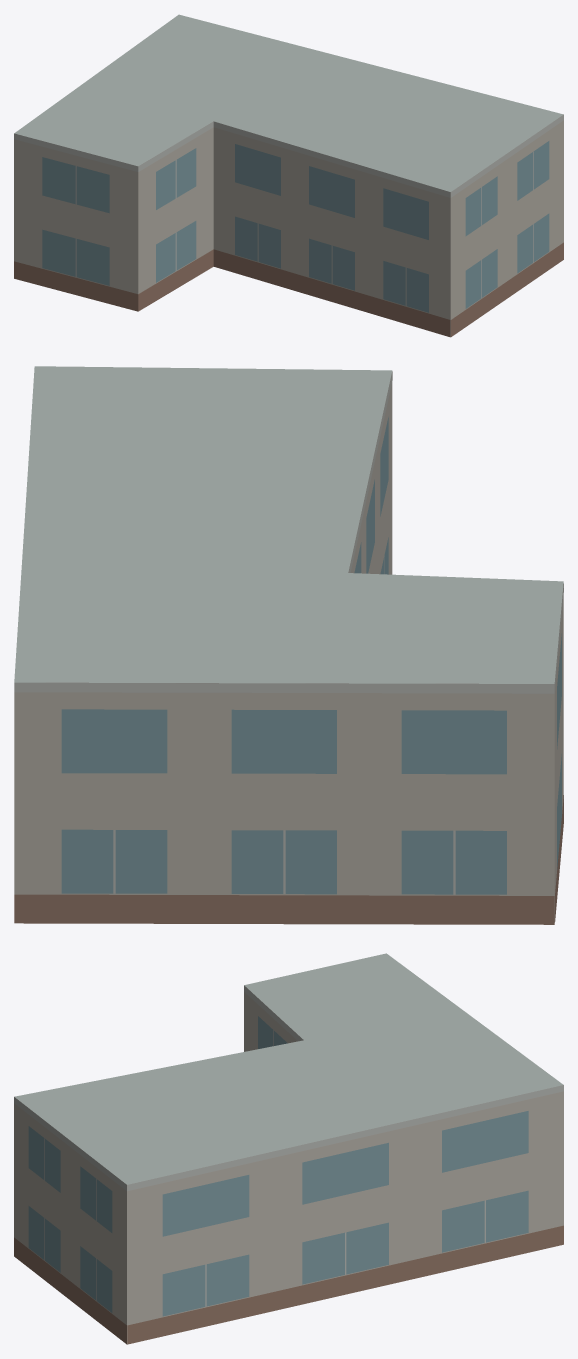
The model's file is survey-upis-32965899.glb.
3 renders of one model, top to bottom at view 1: azimuth 30°, elevation 25°; view 2: azimuth 150°, elevation 25°; view 3: azimuth 270°, elevation 25°, orthographic. The views are drawn at different scales.
Visible parts, largest first — view 1: survey-upis-32965899.tmp; view 2: survey-upis-32965899.tmp; view 3: survey-upis-32965899.tmp.
Part boxes in pixels (box(x1,y1,x2,y2)): survey-upis-32965899.tmp: box(14, 14, 563, 337); survey-upis-32965899.tmp: box(14, 366, 563, 924); survey-upis-32965899.tmp: box(14, 953, 563, 1344).
Size of the model in its own units: 18.99 by 6.1 by 19.05.
